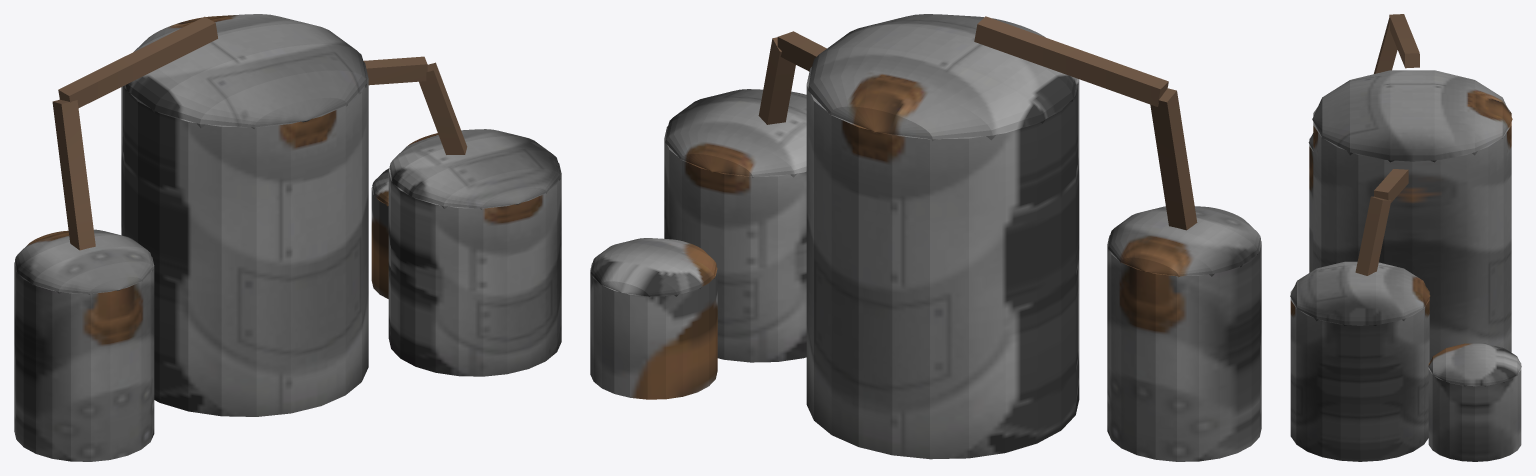
The model's file is Building_BiofuelRefinery.obj.
The picture shows the model from 3 angles, left to right: view 1: azimuth 30°, elevation 25°; view 2: azimuth 150°, elevation 25°; view 3: azimuth 270°, elevation 25°; orthographic projection. The views are drawn at different scales.
Parts seen in each view (by area): view 1: Body; view 2: Body; view 3: Body.
Part boxes in pixels (x1=…): Body: x1=14, y1=14, x2=561, y2=461; Body: x1=590, y1=14, x2=1261, y2=461; Body: x1=1290, y1=14, x2=1521, y2=461.
Size of the model in its own units: 2.93 by 1.89 by 1.39.
Materials: 1 (1 with a texture image).
